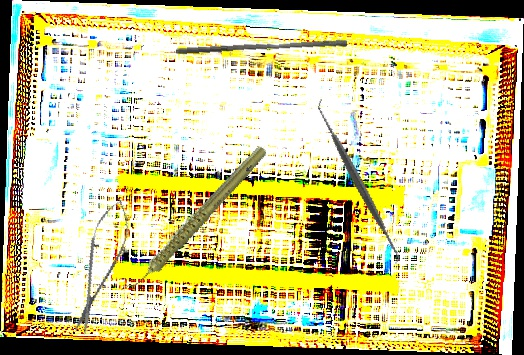Handpiece: (98, 142, 292, 294)
Micro Scissor: (63, 193, 138, 340)
Pusher: (175, 33, 348, 62)
Spatula Surgical: (273, 98, 444, 265)
